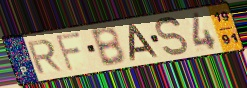4: (191, 11, 218, 52)
A: (128, 23, 161, 62)
B: (88, 25, 128, 69)
F: (54, 30, 83, 74)
R: (25, 38, 65, 76)
S: (155, 15, 190, 57)
